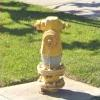a fire hydrant: (34, 17, 68, 93)
